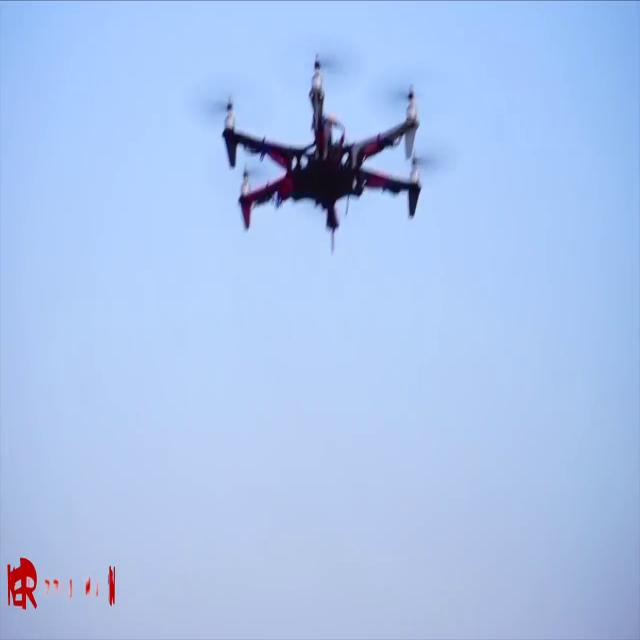drone: (204, 45, 472, 292)
